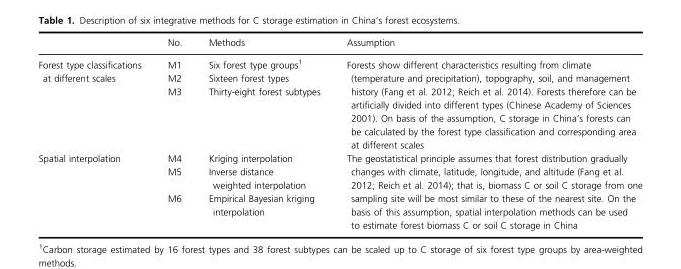table: (37, 37, 641, 230)
table column: (332, 37, 641, 230), (194, 37, 332, 230), (37, 37, 153, 230), (153, 37, 194, 230)
table column header: (37, 37, 641, 52)
table row: (37, 84, 641, 151), (37, 191, 641, 230), (37, 165, 641, 191), (37, 52, 641, 71), (37, 37, 641, 52), (37, 151, 641, 165), (37, 71, 641, 84)
table spanning cell: (332, 52, 641, 151), (332, 151, 641, 230), (37, 52, 153, 151), (37, 151, 153, 230)
